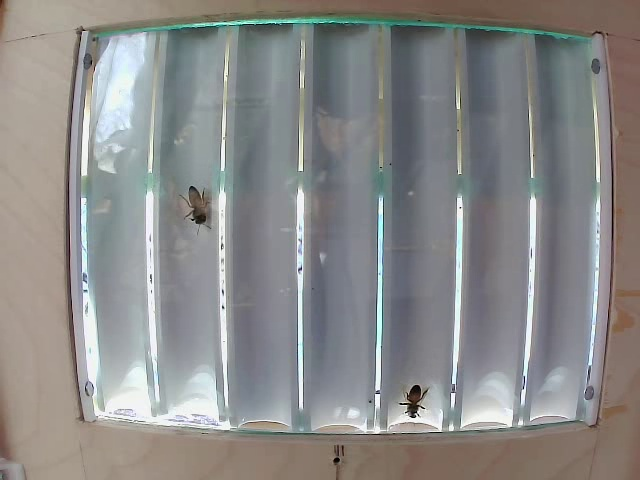bee: (185, 180, 223, 232), (400, 373, 434, 423)
